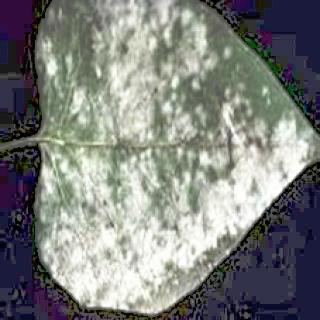grey mildew: (29, 2, 318, 316)
